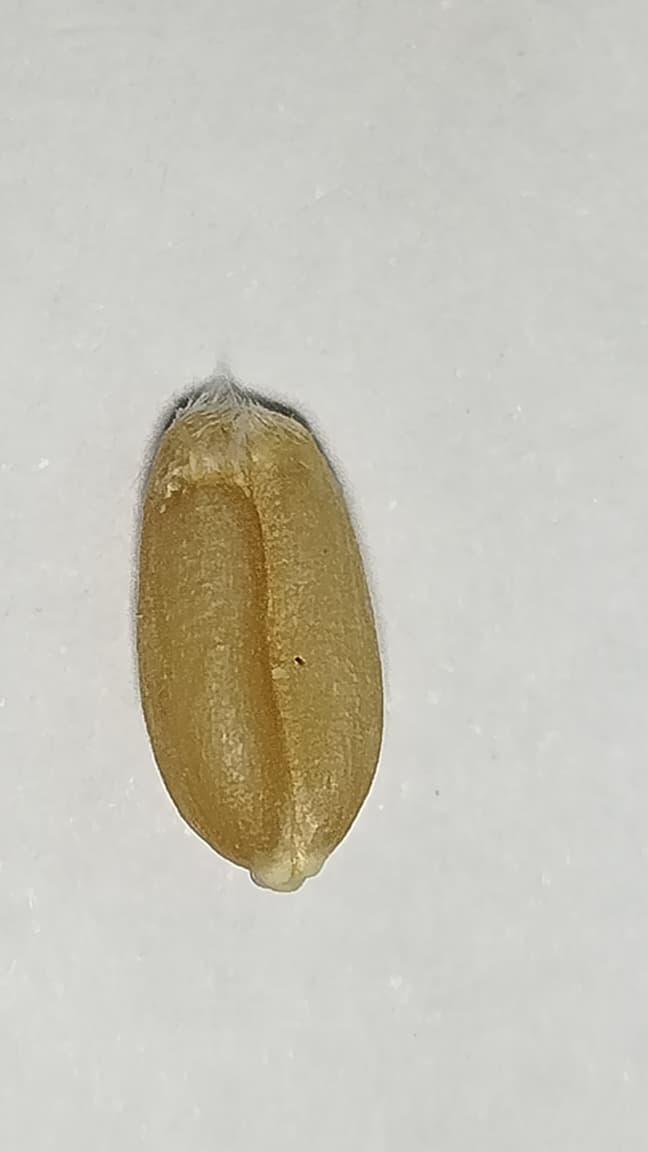healthy: (139, 375, 382, 890)
